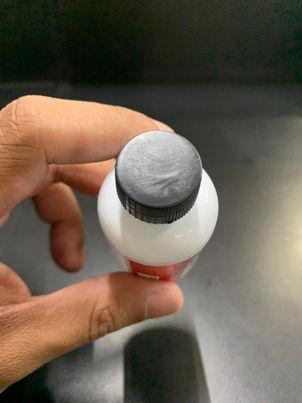-Bottle-: (97, 131, 219, 279)
